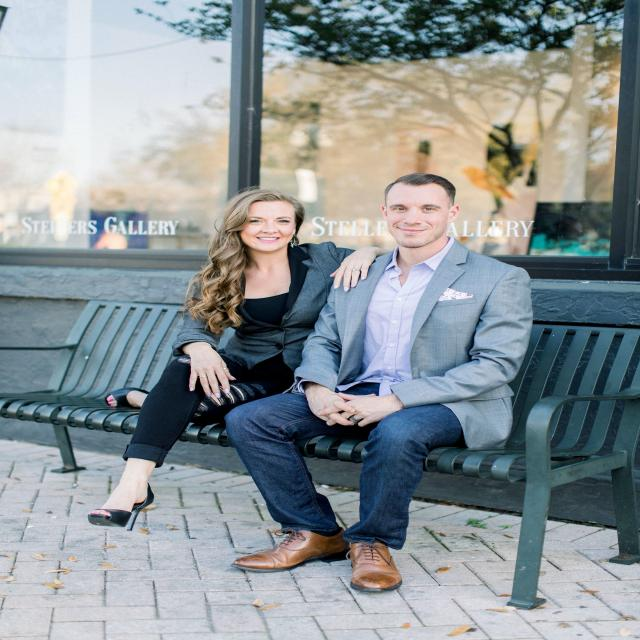nonfall: (251, 162, 530, 569), (93, 182, 328, 529)
